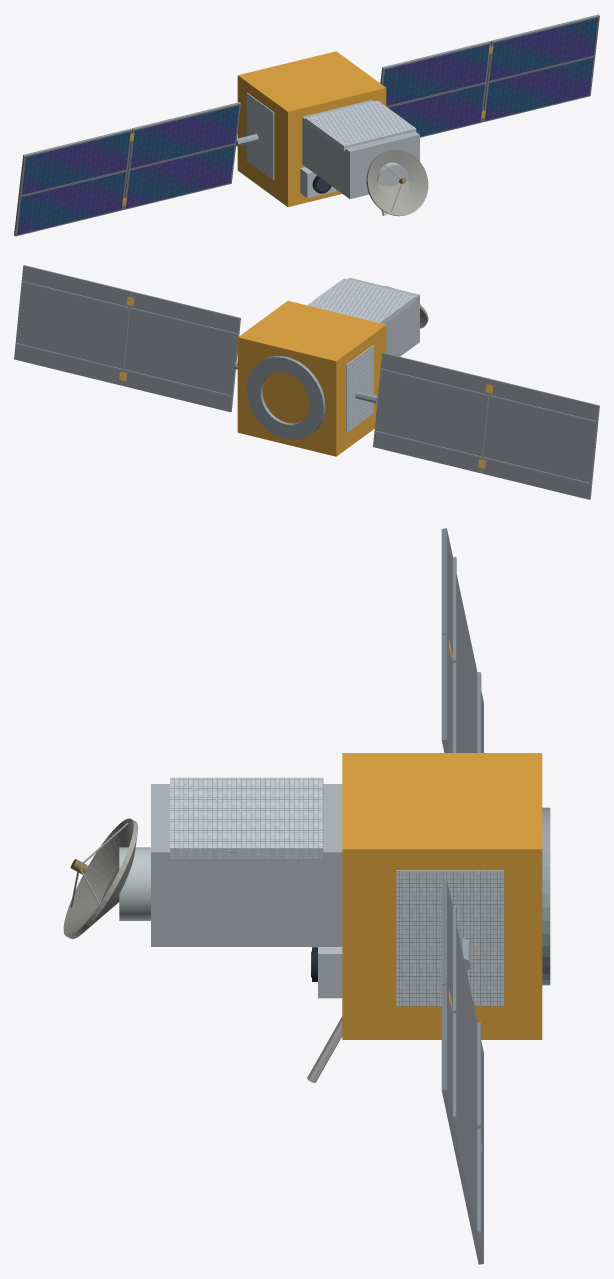
File: oceansat-3.glb
3 views of the same model, one above another, from view 1: azimuth 30°, elevation 25°; view 2: azimuth 150°, elevation 25°; view 3: azimuth 270°, elevation 25° (orthographic). The views are drawn at different scales.
Parts seen in each view (by area): view 1: Solar cell strings (×8), Spacecraft body, Solar panel substrate (×4), Ocean sensor tower, Instrument radiator, SCAT-3 scatterometer, Thermal radiator tiles, SCAT-3 rotating mount, Ocean colour monitor housing; view 2: Solar panel substrate (×4), Spacecraft body, Launch interface, Instrument radiator, Thermal radiator tiles, Ocean sensor tower; view 3: Spacecraft body, Ocean sensor tower, Solar panel substrate (×4), Instrument radiator, Thermal radiator tiles, SCAT-3 scatterometer, SCAT-3 rotating mount, Launch interface, Sea surface temperature monitor housing.
Part boxes in pixels (x1=…): Solar cell strings (×8): x1=17, y1=18, x2=598, y2=234; Spacecraft body: x1=237, y1=51, x2=386, y2=206; Solar panel substrate (×4): x1=14, y1=14, x2=599, y2=236; Ocean sensor tower: x1=302, y1=100, x2=419, y2=199; Instrument radiator: x1=305, y1=100, x2=416, y2=151; SCAT-3 scatterometer: x1=366, y1=149, x2=428, y2=216; Thermal radiator tiles: x1=246, y1=92, x2=274, y2=180; SCAT-3 rotating mount: x1=377, y1=162, x2=408, y2=186; Ocean colour monitor housing: x1=300, y1=167, x2=335, y2=198; Solar panel substrate (×4): x1=14, y1=265, x2=599, y2=499; Spacecraft body: x1=237, y1=301, x2=386, y2=456; Launch interface: x1=246, y1=356, x2=325, y2=439; Instrument radiator: x1=307, y1=278, x2=416, y2=324; Thermal radiator tiles: x1=346, y1=345, x2=373, y2=432; Ocean sensor tower: x1=348, y1=278, x2=419, y2=356; Spacecraft body: x1=342, y1=753, x2=542, y2=1039; Ocean sensor tower: x1=151, y1=784, x2=342, y2=946; Solar panel substrate (×4): x1=441, y1=528, x2=483, y2=1264; Instrument radiator: x1=170, y1=777, x2=323, y2=858; Thermal radiator tiles: x1=396, y1=870, x2=504, y2=1006; SCAT-3 scatterometer: x1=63, y1=818, x2=138, y2=939; SCAT-3 rotating mount: x1=119, y1=847, x2=150, y2=920; Launch interface: x1=542, y1=807, x2=550, y2=985; Sea surface temperature monitor housing: x1=318, y1=947, x2=342, y2=998.
Size of the model in its own units: 11.68 by 2.35 by 4.28.
Materials: 14 (2 with a texture image).
